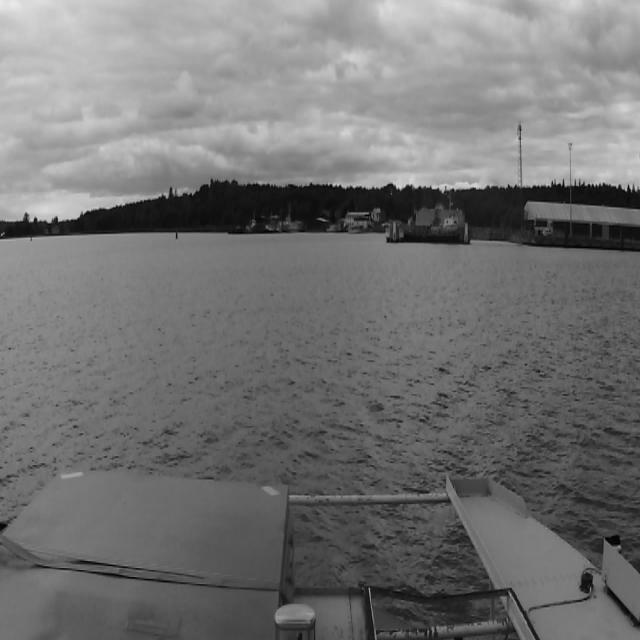buoy: (175, 231, 179, 241)
ship: (281, 214, 301, 232), (266, 214, 280, 233), (30, 233, 32, 241)
